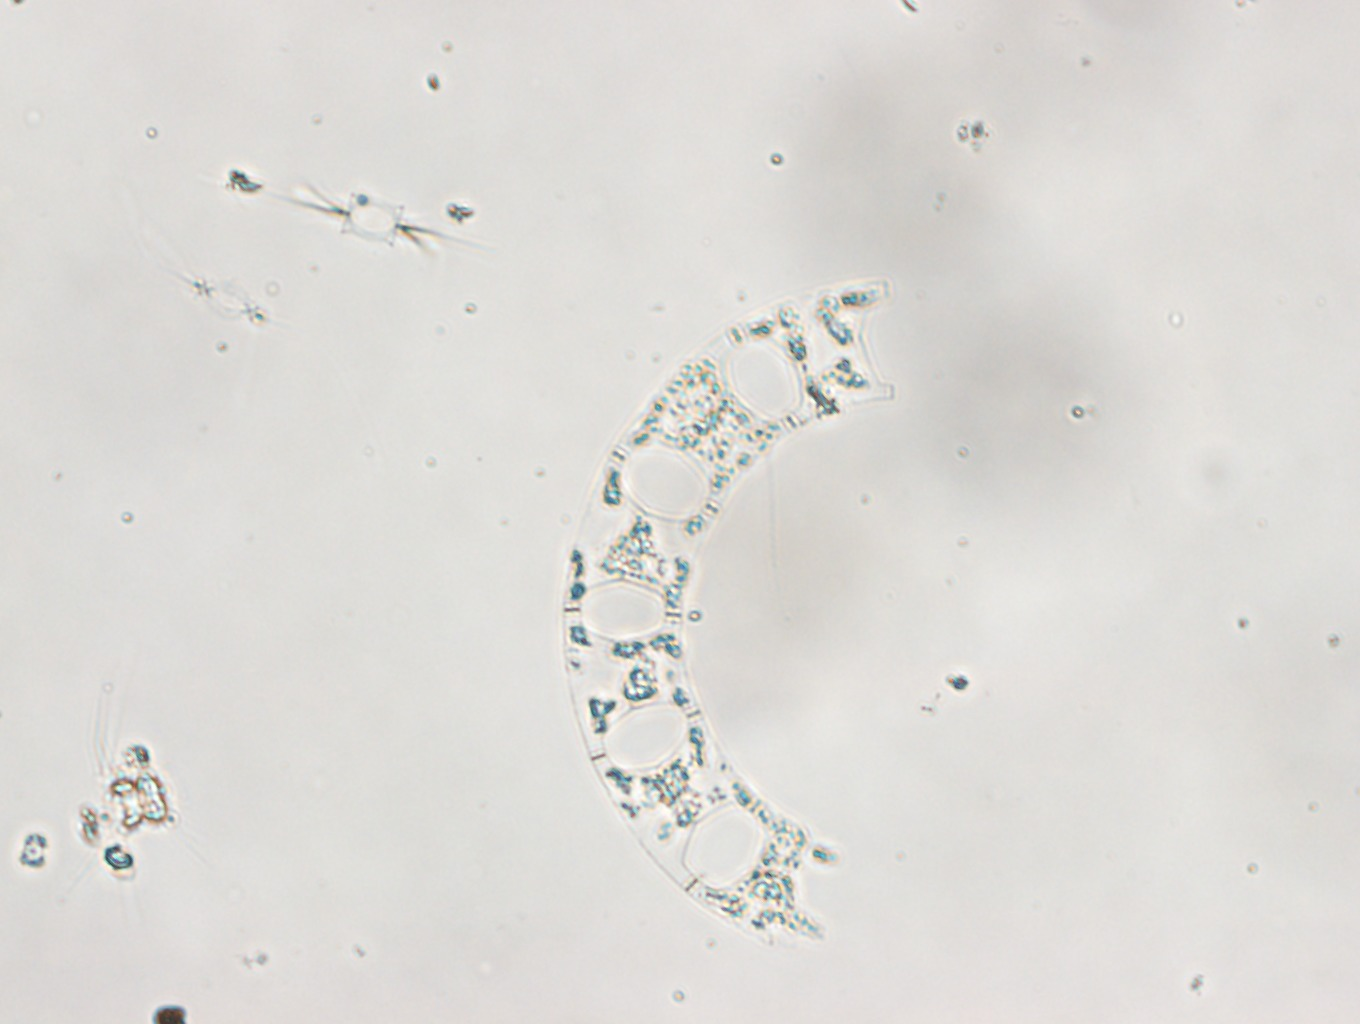chaetoceros: (294, 175, 460, 267)
eucampia: (560, 270, 893, 955)
